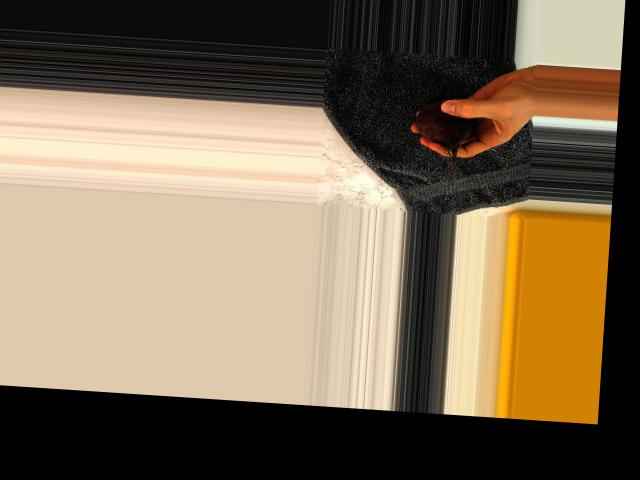beet: (411, 93, 475, 184)
